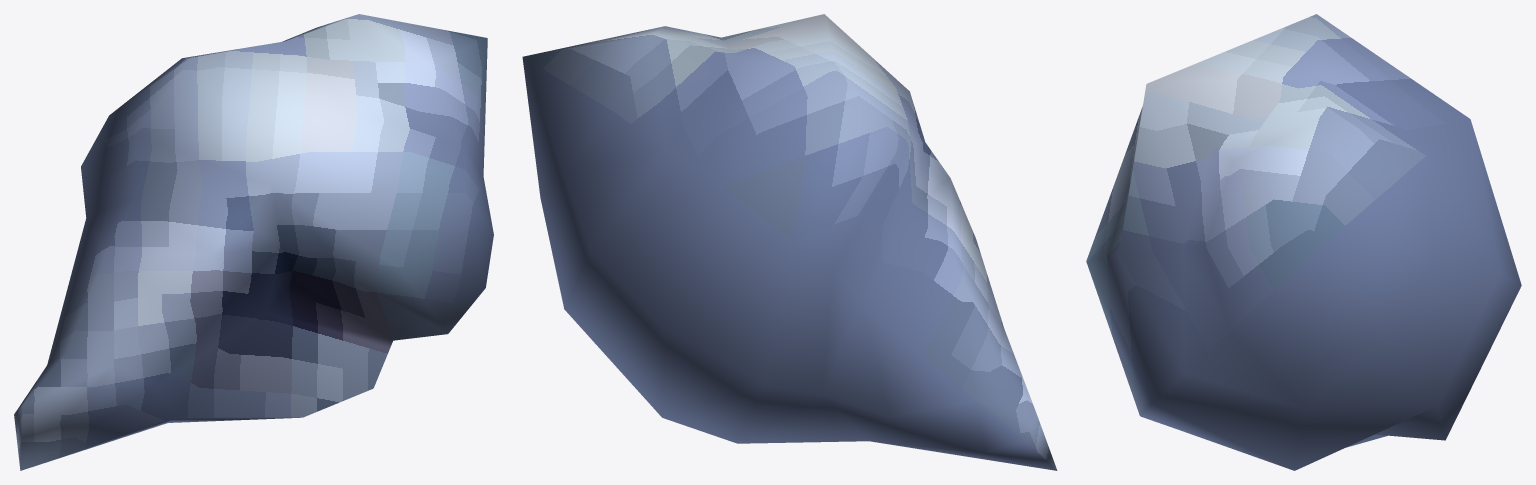
Rendered from fg_conch.dae.
3 views of the same model, side by side, from view 1: azimuth 30°, elevation 25°; view 2: azimuth 150°, elevation 25°; view 3: azimuth 270°, elevation 25° (orthographic). The views are drawn at different scales.
Parts seen in each view (by area): view 1: fg_conch; view 2: fg_conch; view 3: fg_conch.
Boxes of the visible parts, box(x1,y1,x2,y2) form: fg_conch: box(14, 14, 493, 470); fg_conch: box(522, 14, 1057, 470); fg_conch: box(1086, 14, 1521, 470).
Size of the model in its own units: 10.95 by 7.62 by 7.34.
Materials: 1 (1 with a texture image).
